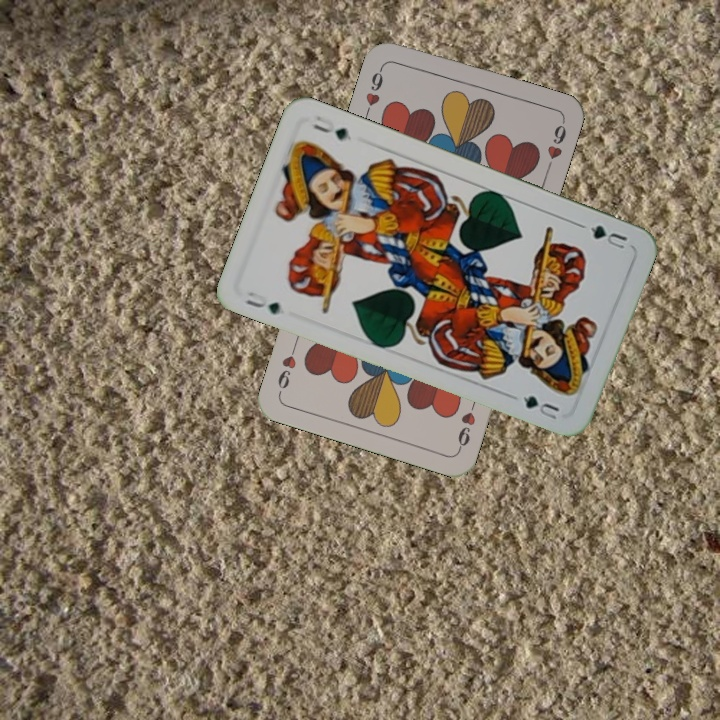GU: (576, 220, 630, 253), (240, 287, 283, 317)
H9: (453, 395, 479, 453), (361, 61, 386, 119)
